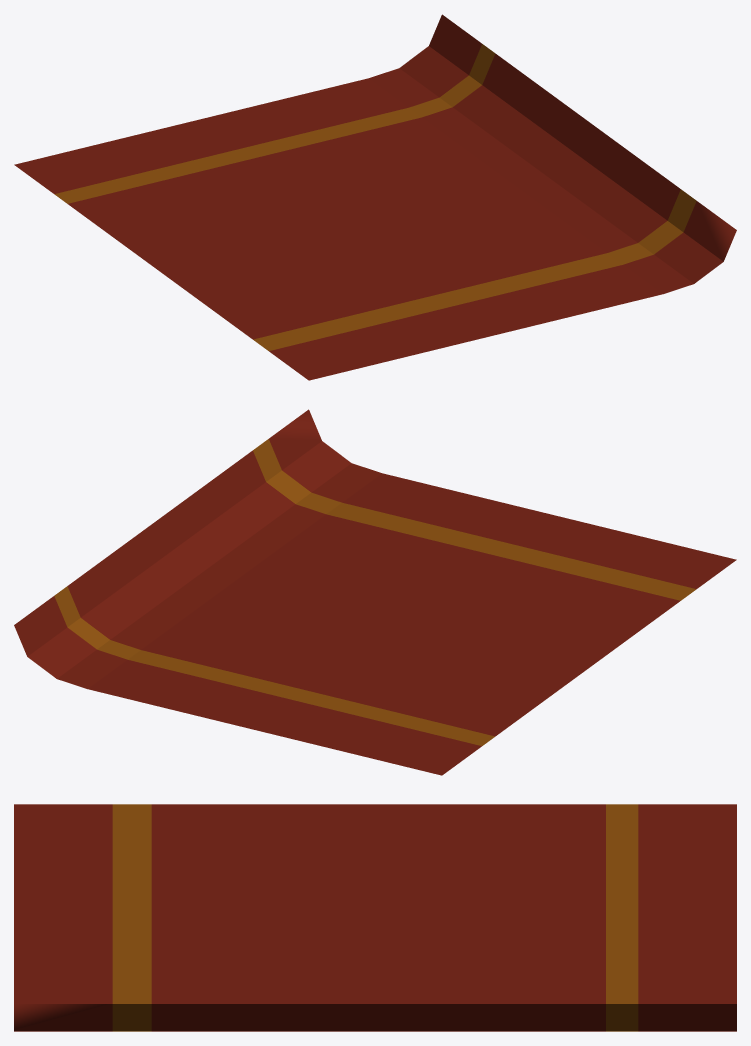
The model's file is Carpet_End.fbx.
3 renders of one model, top to bottom at view 1: azimuth 30°, elevation 25°; view 2: azimuth 150°, elevation 25°; view 3: azimuth 270°, elevation 25°, orthographic. The views are drawn at different scales.
Parts seen in each view (by area): view 1: carpet_end; view 2: carpet_end; view 3: carpet_end.
Boxes of the visible parts, <box> form: carpet_end: <box>14,14,736,380</box>; carpet_end: <box>14,409,736,775</box>; carpet_end: <box>14,804,736,1031</box>.
Bounding box in the file's own units: 3.22 × 0.3307 × 3.84.
